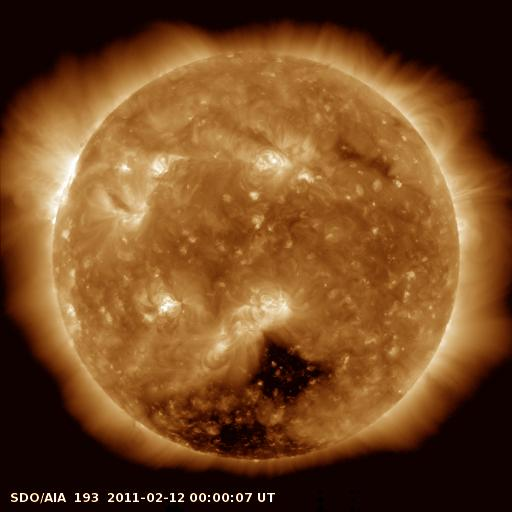coronal_hole: (146, 329, 335, 463)
